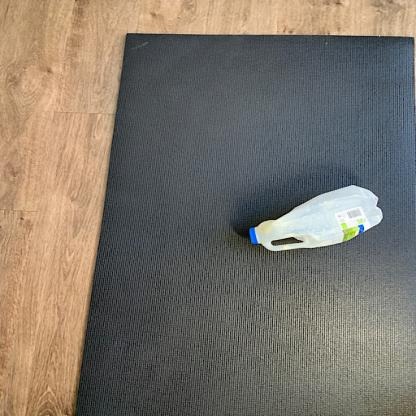trash: (245, 182, 387, 253)
